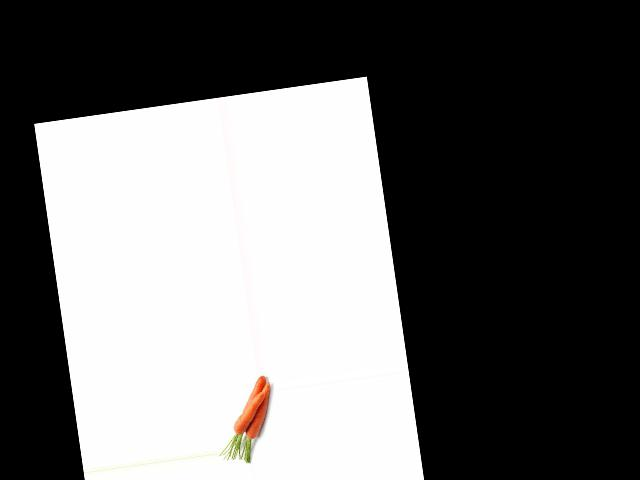carrot: (239, 378, 280, 449)
